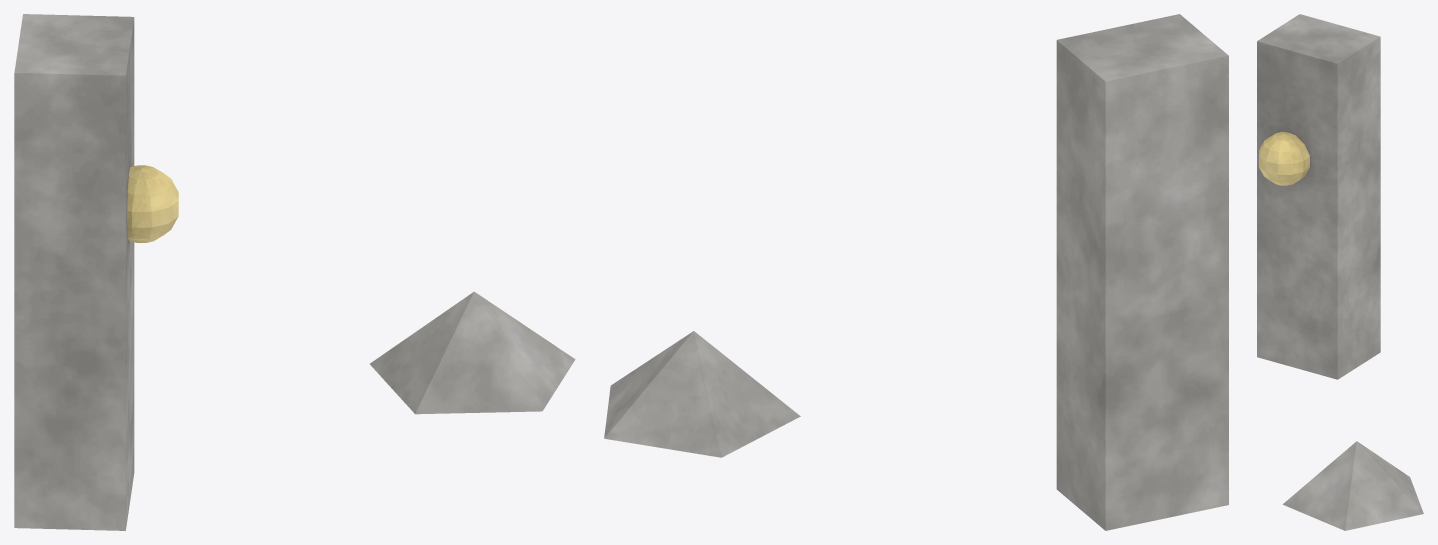
Rendered from res_all_1.glb.
The picture shows the model from 3 angles, left to right: view 1: azimuth 30°, elevation 25°; view 2: azimuth 150°, elevation 25°; view 3: azimuth 270°, elevation 25°; orthographic projection. The views are drawn at different scales.
Parts seen in each view (by area): view 1: dilek; view 2: dilek; view 3: dilek.
Part boxes in pixels (bbox=[...]): dilek: bbox=[14, 14, 575, 530]; dilek: bbox=[604, 14, 1228, 530]; dilek: bbox=[1257, 14, 1423, 530].
Size of the model in its own units: 0.4422 by 0.324 by 0.1551.
Materials: 1 (1 with a texture image).
